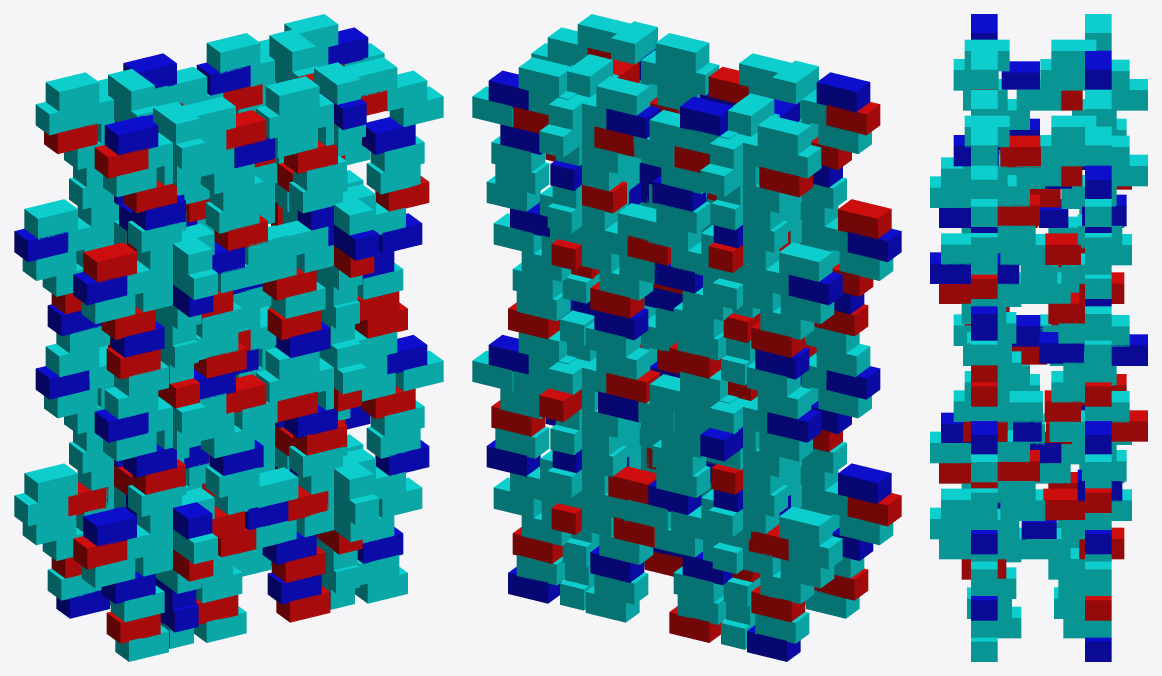
3 renders of one model, left to right at view 1: azimuth 30°, elevation 25°; view 2: azimuth 150°, elevation 25°; view 3: azimuth 270°, elevation 25°, orthographic. The views are drawn at different scales.
Parts seen in each view (by area): view 1: pCube1799, pCube2051, pCube1790, pCube2015, pCube1826, pCube1835, pCube1862, pCube1898, pCube2177, pCube1961, pCube1943, pCube2159 (+175 smaller); view 2: pCube1799, pCube2015, pCube1862, pCube1790, pCube1835, pCube2051, pCube1898, pCube1826, pCube2069, pCube1853, pCube1943, pCube2159 (+180 smaller); view 3: pCube2196, pCube2177, pCube2204, pCube2160, pCube1961, pCube2162, pCube2168, pCube2069, pCube2033, pCube1853, pCube2152, pCube1960 (+132 smaller).
Part boxes in pixels (box(x1,y1,x2,y2)): pCube1799: box(104, 115, 158, 155); pCube2051: box(206, 33, 260, 73); pCube1790: box(83, 242, 136, 283); pCube2015: box(265, 76, 319, 116); pCube1826: box(24, 199, 77, 239); pCube1835: box(45, 72, 99, 112); pCube1862: box(83, 506, 136, 546); pCube1898: box(24, 463, 77, 502); pCube2177: box(269, 29, 316, 71); pCube1961: box(108, 69, 154, 111); pCube1943: box(153, 101, 199, 144); pCube2159: box(314, 62, 360, 104); pCube1799: box(816, 72, 870, 112); pCube2015: box(655, 33, 709, 73); pCube1862: box(838, 463, 891, 504); pCube1790: box(838, 199, 891, 239); pCube1835: box(757, 115, 811, 155); pCube2051: box(596, 76, 650, 115); pCube1898: box(779, 506, 832, 546); pCube1826: box(779, 242, 832, 281); pCube2069: box(518, 57, 571, 97); pCube1853: box(680, 96, 732, 135); pCube1943: box(772, 60, 818, 104); pCube2159: box(611, 21, 657, 64); pCube2196: box(998, 391, 1042, 422); pCube2177: box(1051, 115, 1096, 147); pCube2204: box(1043, 488, 1084, 520); pCube2160: box(1000, 135, 1040, 167); pCube1961: box(1051, 39, 1096, 71); pCube2162: box(1039, 332, 1084, 363); pCube2168: box(1045, 233, 1080, 264); pCube2069: box(1085, 126, 1111, 165); pCube2033: box(971, 126, 997, 165); pCube1853: box(1085, 50, 1111, 89); pCube2152: box(1000, 234, 1045, 265); pCube1960: box(1040, 59, 1084, 90).
Size of the model in its own units: 13.46 by 19.1 by 7.38.
